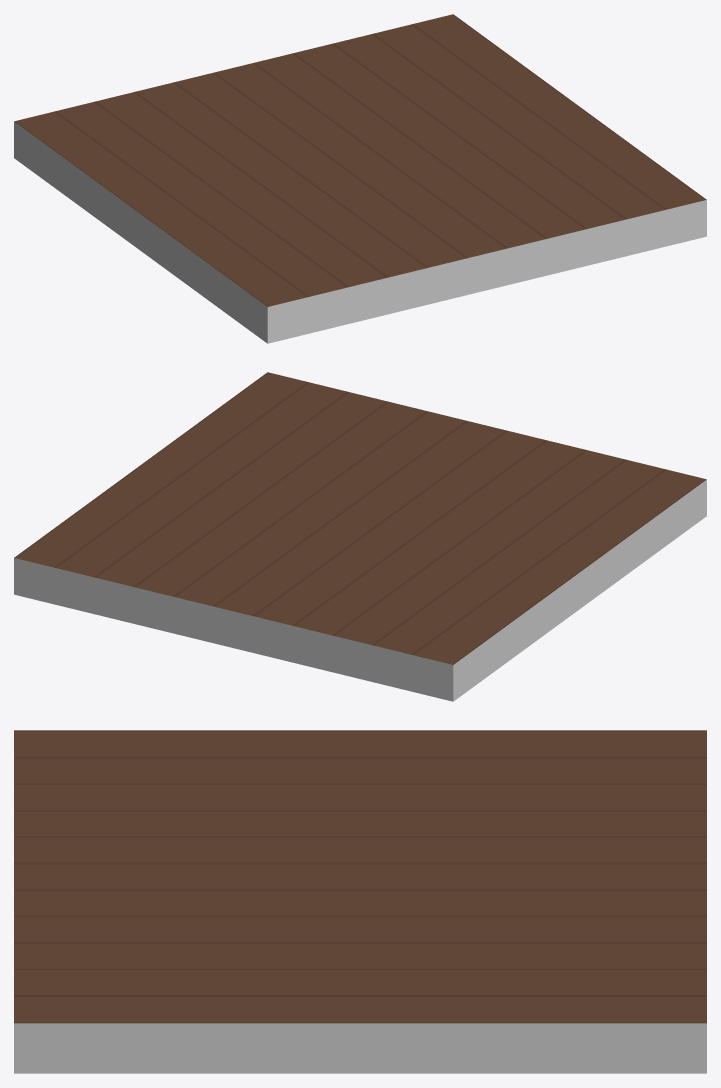
File: Floor4_01.fbx
3 views of the same model, one above another, from view 1: azimuth 30°, elevation 25°; view 2: azimuth 150°, elevation 25°; view 3: azimuth 270°, elevation 25° (orthographic). The views are drawn at different scales.
Parts seen in each view (by area): view 1: Floor4_01; view 2: Floor4_01; view 3: Floor4_01.
Boxes of the visible parts, <box> form: Floor4_01: <box>14,14,706,343</box>; Floor4_01: <box>14,372,706,701</box>; Floor4_01: <box>14,730,706,1073</box>.
Bounding box in the file's own units: 250 × 20 × 250.
